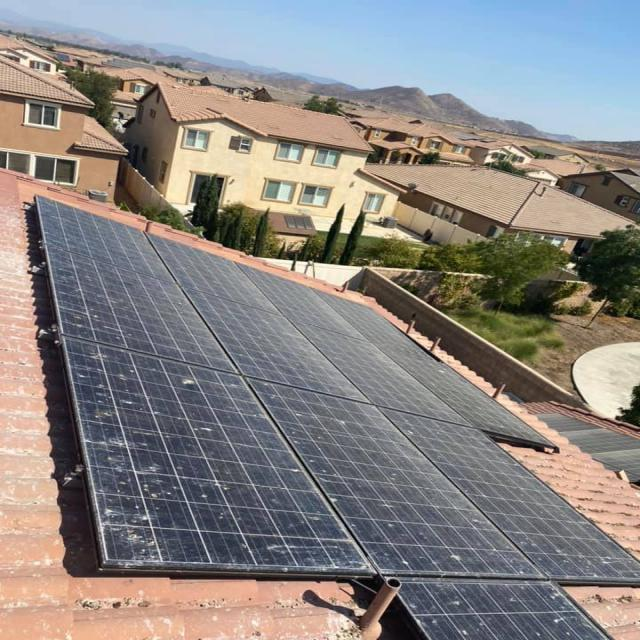dust-solar-panel: (38, 196, 640, 640)
